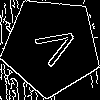V: (26, 21, 81, 73)
